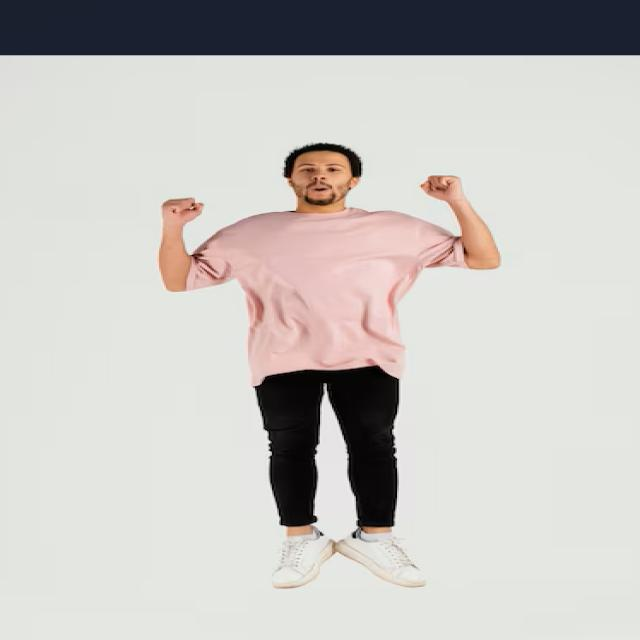Edited images: (133, 136, 517, 600)
